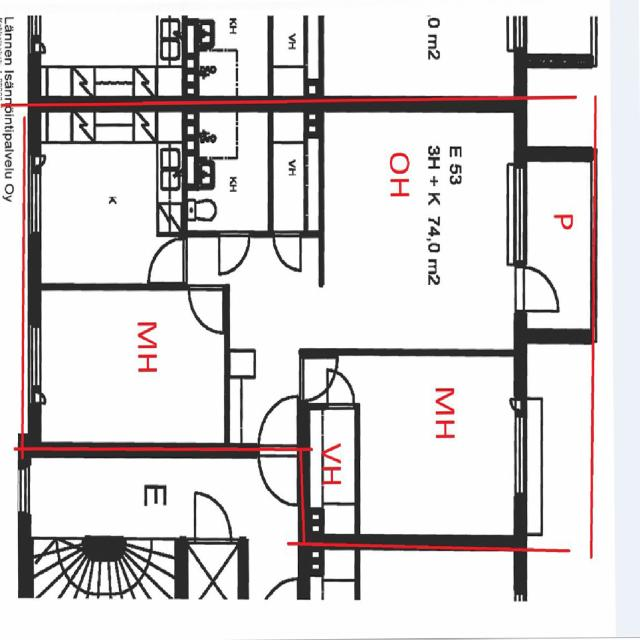door: (258, 442, 297, 508), (258, 394, 297, 459), (514, 267, 562, 312), (189, 284, 223, 333), (149, 239, 187, 282), (300, 358, 338, 400), (219, 231, 250, 276), (274, 230, 301, 272), (327, 368, 354, 409)
